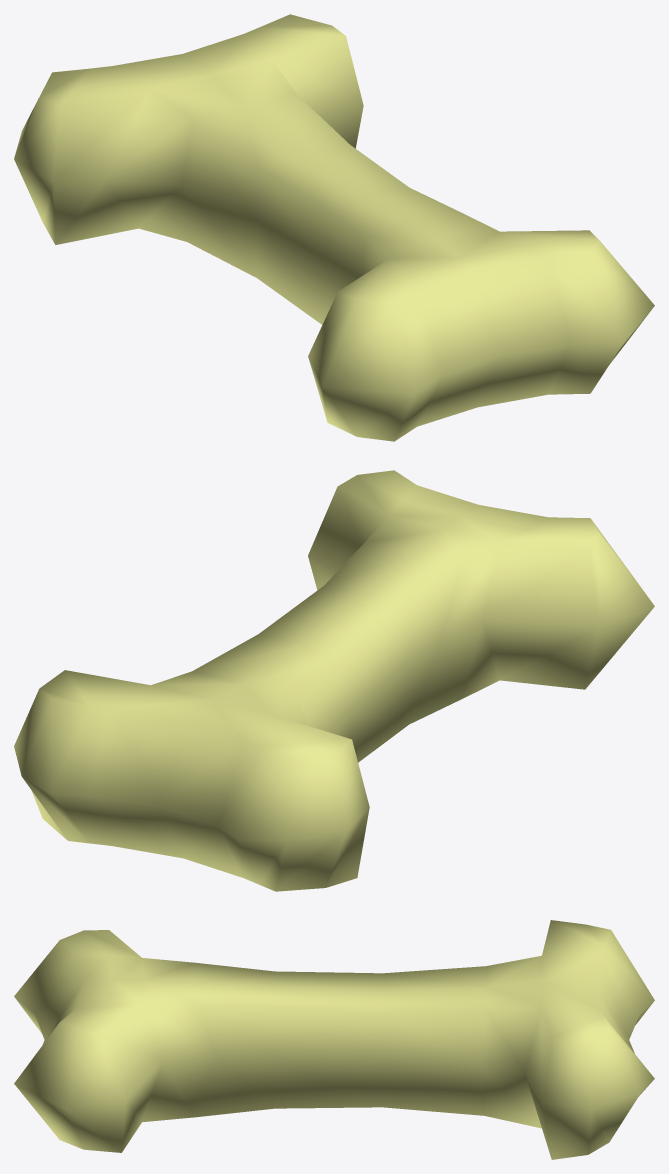
Rendered from sm_bone.fbx.
The picture shows the model from 3 angles, top to bottom: view 1: azimuth 30°, elevation 25°; view 2: azimuth 150°, elevation 25°; view 3: azimuth 270°, elevation 25°; orthographic projection. The views are drawn at different scales.
Visible parts, largest first — view 1: Cube; view 2: Cube; view 3: Cube.
Boxes of the visible parts, x1,y1,x2,y2 form: Cube: [14, 14, 654, 441]; Cube: [14, 470, 654, 891]; Cube: [14, 920, 654, 1159].
Bounding box in the file's own units: 510 × 202 × 985.
